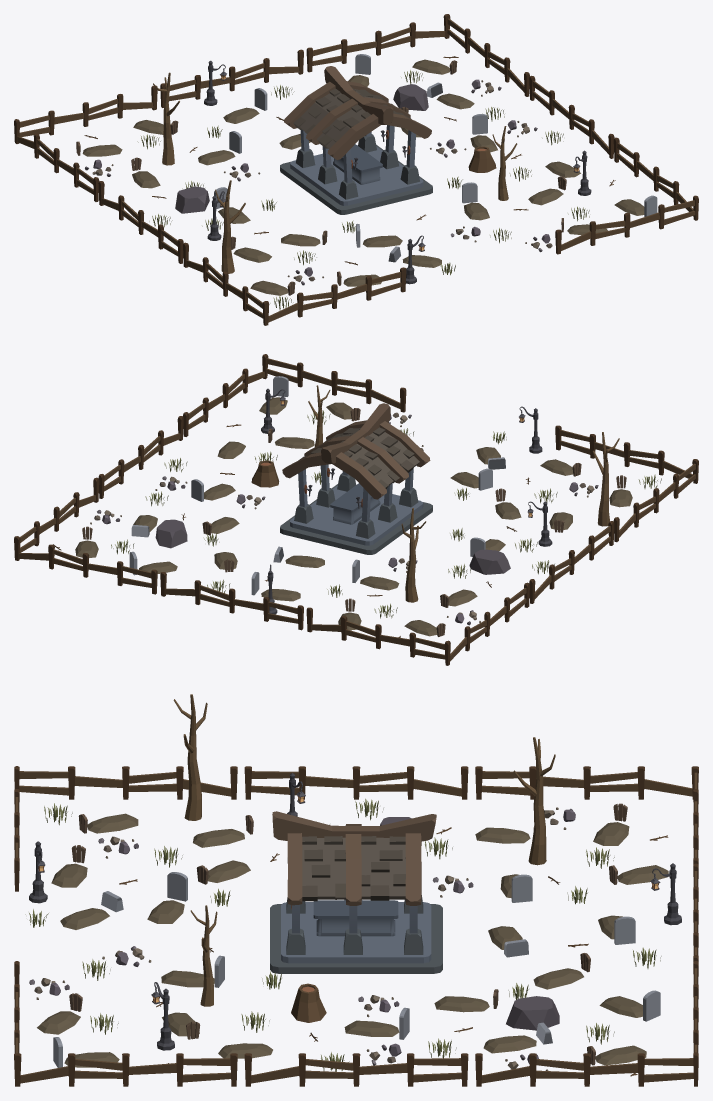
Rendered from Building_Graveyard_Square st4.fbx.
3 views of the same model, one above another, from view 1: azimuth 30°, elevation 25°; view 2: azimuth 150°, elevation 25°; view 3: azimuth 270°, elevation 25° (orthographic). The views are drawn at different scales.
Parts seen in each view (by area): view 1: Building_Graveyard_Square st4; view 2: Building_Graveyard_Square st4; view 3: Building_Graveyard_Square st4.
Part boxes in pixels (x1,y1,x2,y2): Building_Graveyard_Square st4: (14, 14, 698, 325); Building_Graveyard_Square st4: (14, 354, 698, 665); Building_Graveyard_Square st4: (14, 694, 698, 1086).
Size of the model in its own units: 594 by 124 by 594.
